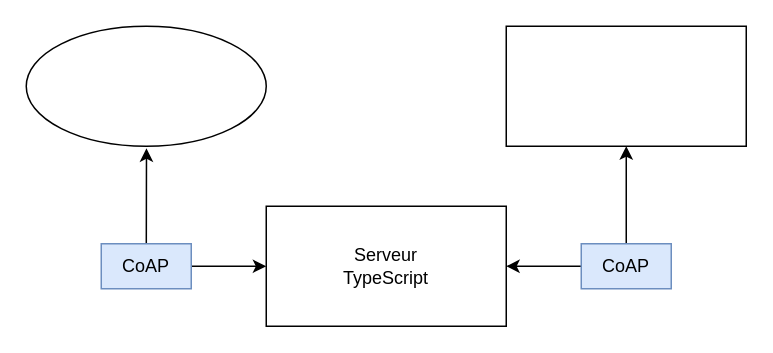
This 773x353 diagram has some shape labels left out. Each missing label, with the centre of its shape:
Front Sensors & Interactions: (x=625, y=85)
ThingsBoard: (x=145, y=85)
